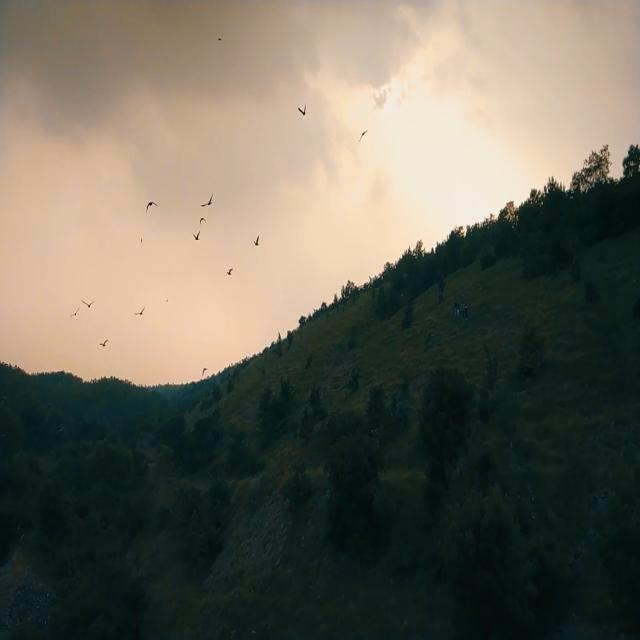bird: (201, 189, 215, 210), (144, 196, 159, 215), (132, 302, 146, 320), (82, 297, 98, 312), (68, 304, 82, 320), (357, 127, 368, 145), (297, 100, 308, 116), (226, 265, 235, 281), (98, 336, 110, 348), (251, 234, 261, 248), (192, 228, 201, 242), (201, 364, 208, 378), (198, 214, 206, 226), (216, 32, 224, 44)
